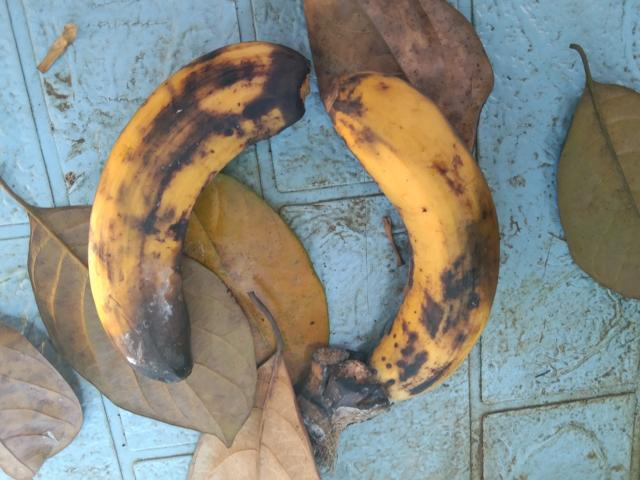overripe: (86, 31, 303, 394), (327, 58, 527, 427)
